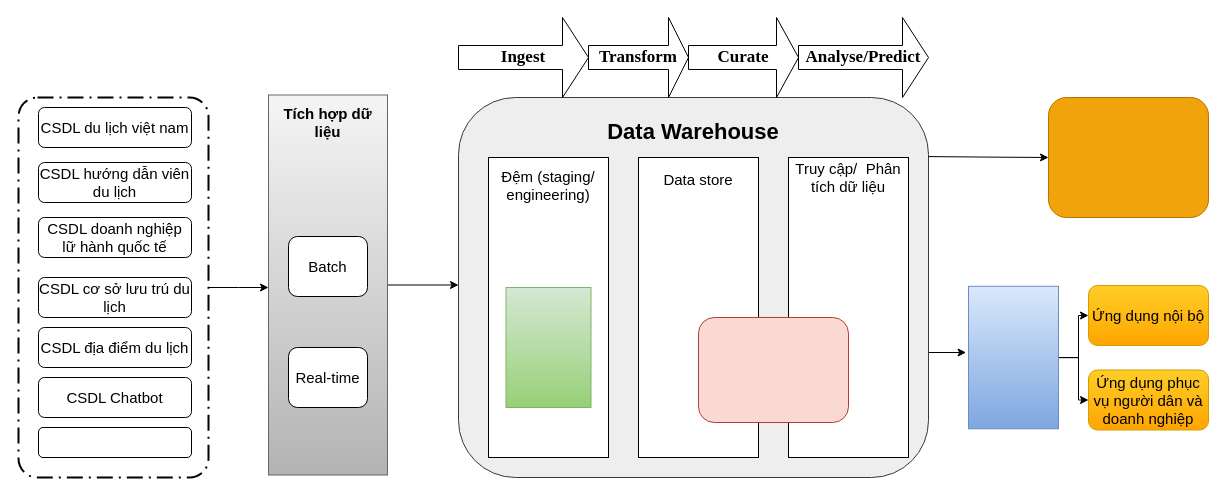
Image size: 1226x496. Some labels were removed from this diagram. The shapes that lost their labels are listed below. From the top down, each one's centre as x and y in pixels, then its label:
At (1128,157): "Hệ thống BI (Dashboard)".
At (548,347): "ODS".
At (1013,357): "Cung cấp dịch vụ dạng API".
At (773,369): "Mô hình dữ liêu (Data Model)".
At (115,442): "CSDL Khác".
